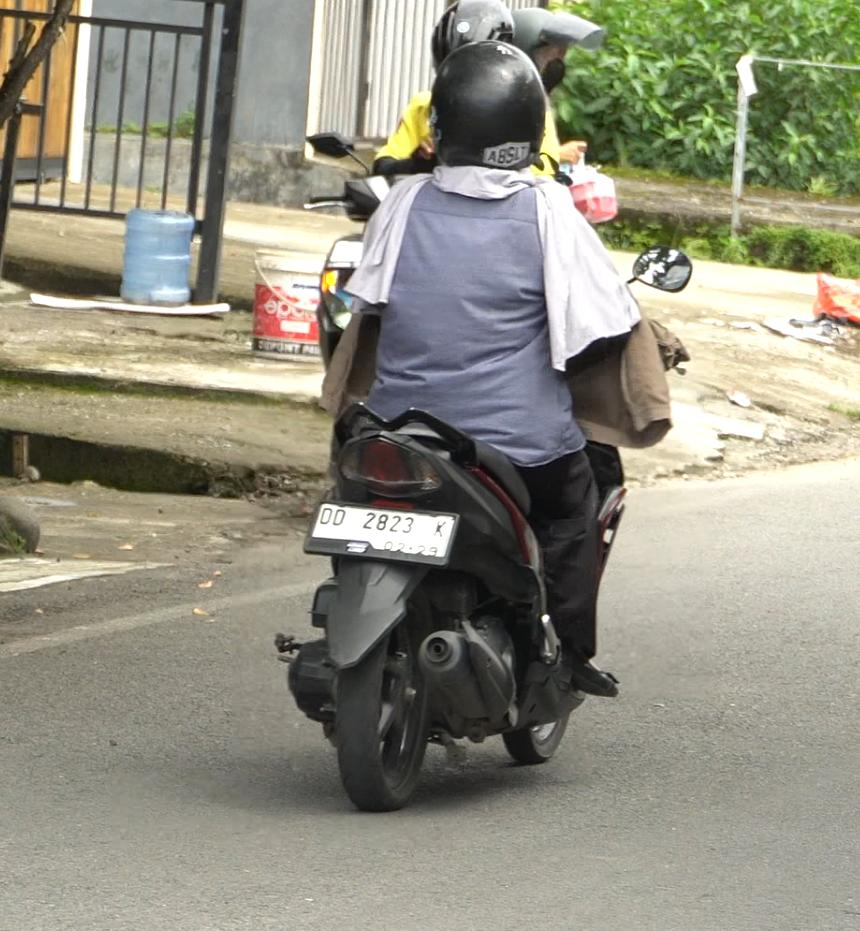number-plate: (298, 496, 461, 569)
